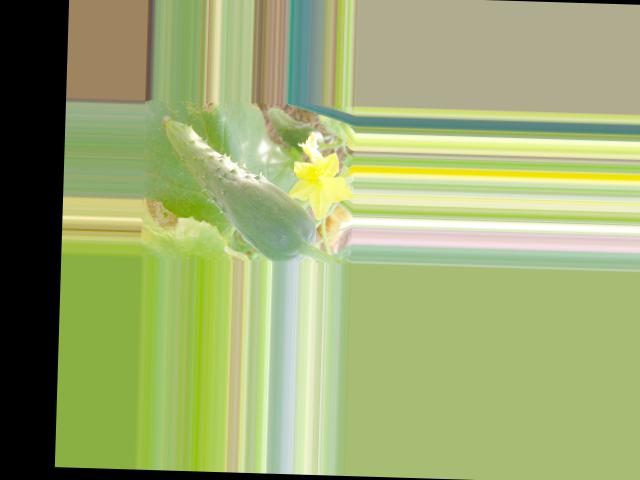cucumber: (158, 115, 320, 263)
